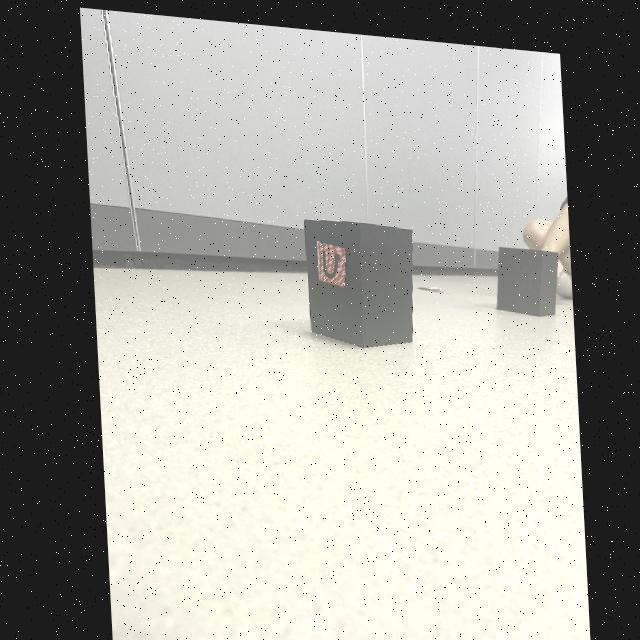U: (321, 244, 336, 272)
